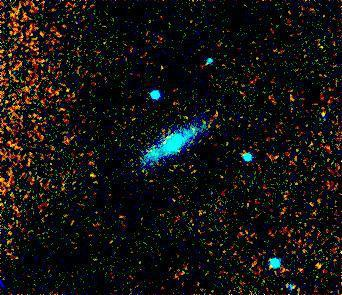star: (304, 249, 334, 279)
